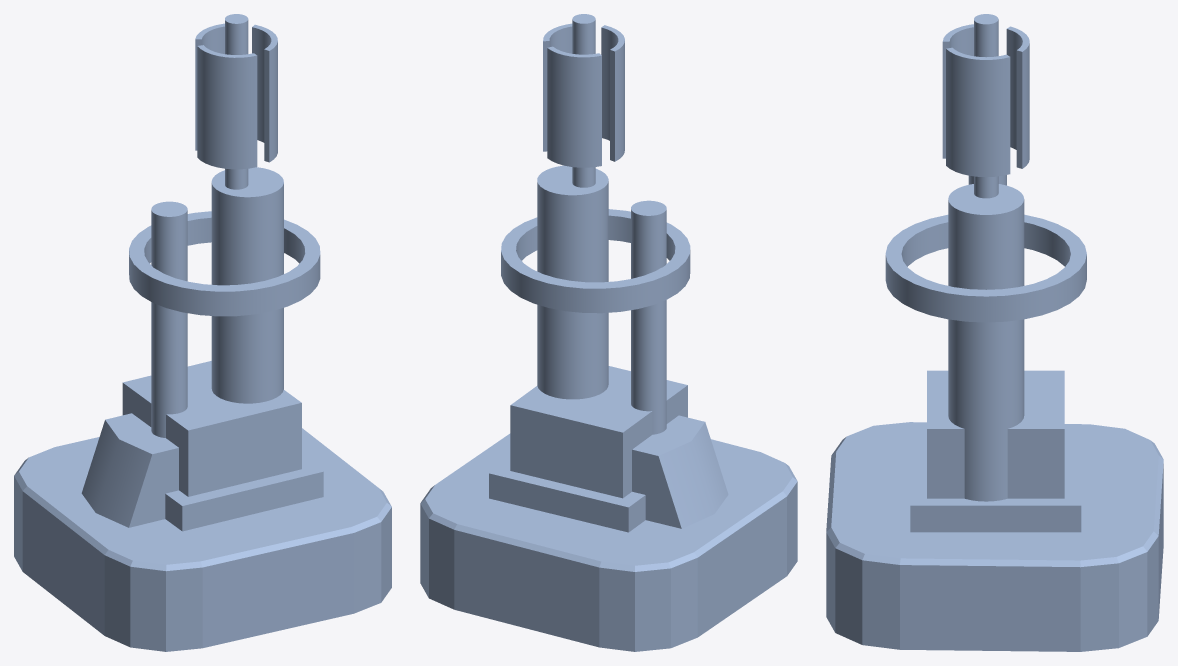
The model's file is Mission_Object_01.fbx.
3 renders of one model, left to right at view 1: azimuth 30°, elevation 25°; view 2: azimuth 150°, elevation 25°; view 3: azimuth 270°, elevation 25°, orthographic. The views are drawn at different scales.
Parts seen in each view (by area): view 1: Mission_Object; view 2: Mission_Object; view 3: Mission_Object.
Part boxes in pixels (<box>): Mission_Object: <box>14,14,391,651</box>; Mission_Object: <box>420,14,797,651</box>; Mission_Object: <box>826,14,1163,651</box>.
Size of the model in its own units: 1.08 by 2.04 by 1.08.
